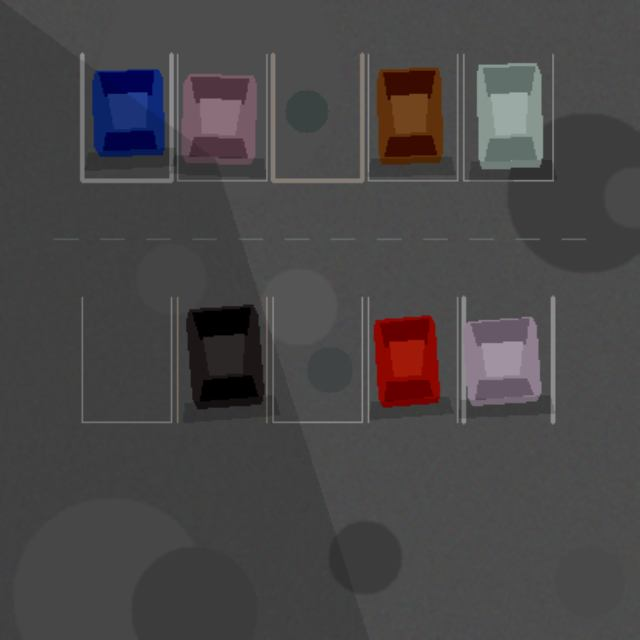space-empty: (272, 54, 362, 180), (272, 297, 362, 422), (82, 297, 171, 422)
space-occupied: (82, 54, 171, 180), (177, 54, 266, 180), (368, 54, 457, 180), (463, 54, 552, 180), (177, 297, 266, 422), (368, 297, 457, 422), (463, 297, 552, 422)
